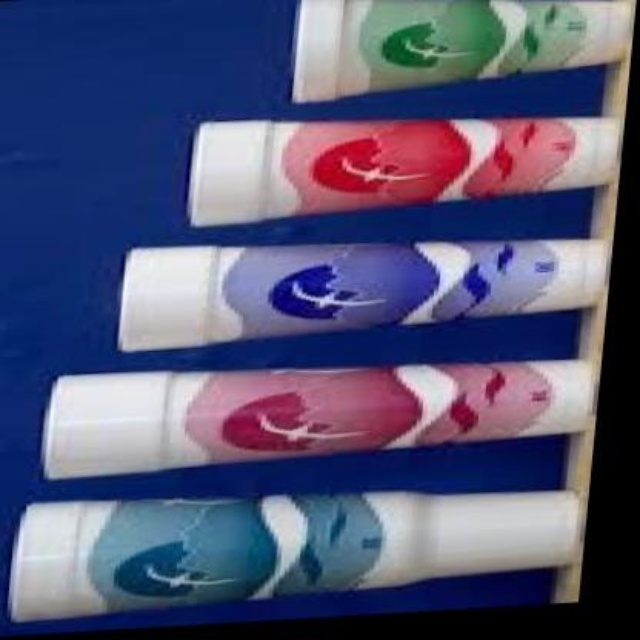trash: (0, 0, 638, 634), (11, 491, 578, 620), (45, 360, 591, 477), (118, 240, 606, 349), (189, 118, 617, 225), (294, 0, 631, 100)
